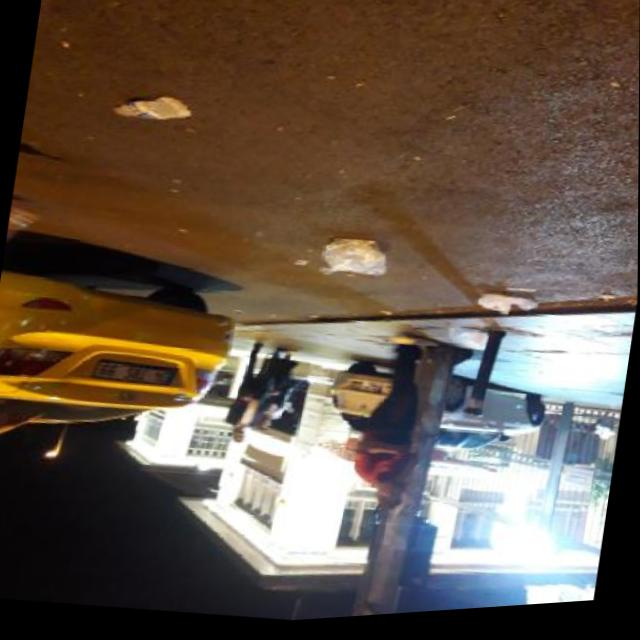plastic: (256, 227, 303, 302), (97, 435, 132, 521), (323, 75, 353, 141)
